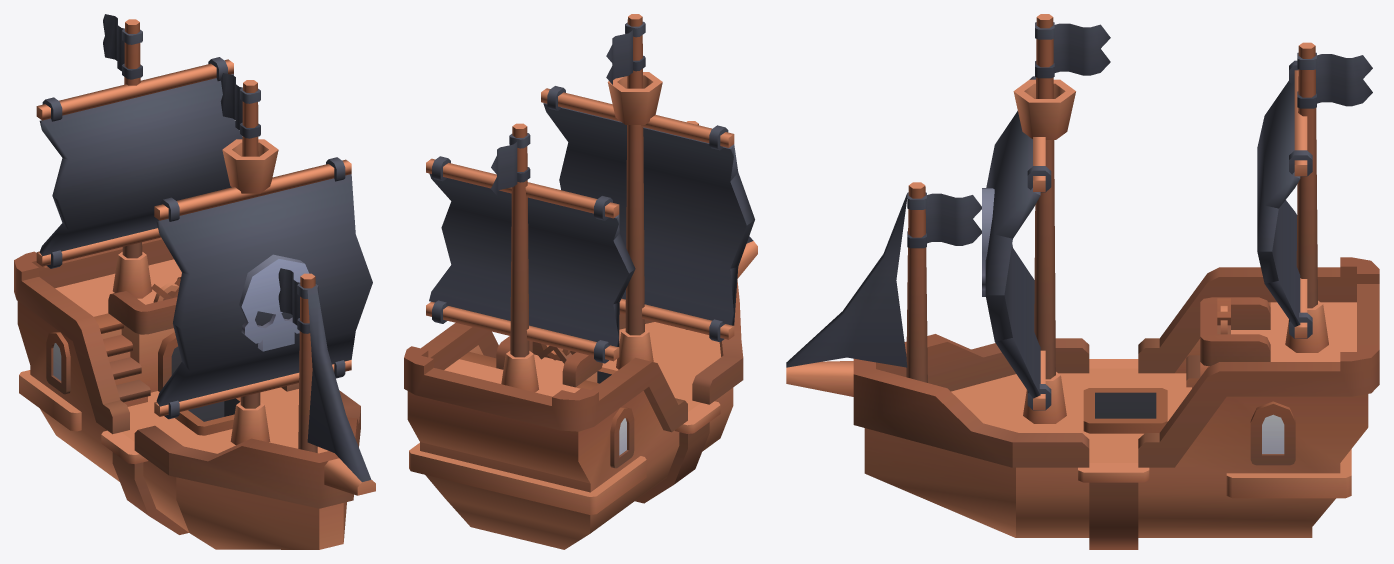
Rendered from pirate_ship.glb.
3 views of the same model, side by side, from view 1: azimuth 30°, elevation 25°; view 2: azimuth 150°, elevation 25°; view 3: azimuth 270°, elevation 25° (orthographic). The views are drawn at different scales.
Visible parts, largest first — view 1: ship-pirate-medium; view 2: ship-pirate-medium; view 3: ship-pirate-medium.
Part boxes in pixels (x1,y1,x2,y2): ship-pirate-medium: (14, 14, 375, 549); ship-pirate-medium: (404, 14, 757, 549); ship-pirate-medium: (786, 14, 1379, 549).
Size of the model in its own units: 4.8 by 9.96 by 10.6.
1 material, 1 textured.
